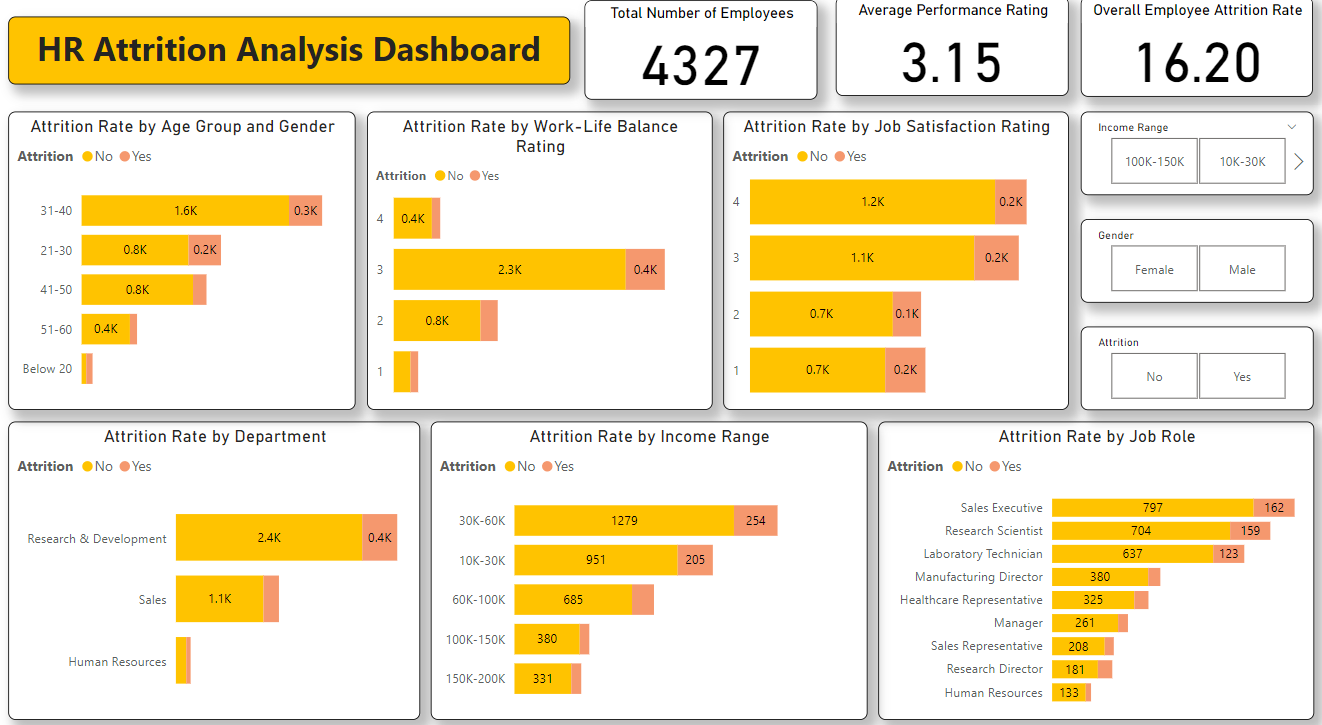

The page's visual inventory and layout, read from the dashboard file:
{"tool":"powerbi","page":{"name":"Page 1","canvas":[1280,720],"ordinal":0},"visuals":[{"type":"barChart","title":"Attrition Rate by Department","fields":{"Category":["hranalytics.Department"],"Y":["Count(hranalytics.EmployeeID)"],"Series":["hranalytics.Attrition"]},"box":[11,422.6,397.9,288.2],"z":0},{"type":"barChart","title":"Attrition Rate by Age Group and Gender","fields":{"Category":["hranalytics.Age Group"],"Y":["CountNonNull(hranalytics.Gender)"],"Series":["hranalytics.Attrition"]},"box":[11,123.5,334.8,288.2],"z":1000},{"type":"barChart","title":"Attrition Rate by Job Role","fields":{"Category":["hranalytics.JobRole"],"Series":["hranalytics.Attrition"],"Y":["Count(hranalytics.EmployeeID)"]},"box":[859,431.9,421,288.3],"z":2000},{"type":"barChart","title":"Attrition Rate by Job Satisfaction Rating","fields":{"Y":["Count(hranalytics.EmployeeID)"],"Series":["hranalytics.Attrition"],"Category":["hranalytics.JobSatisfaction"]},"box":[701.2,123.5,333.4,288.2],"z":3000},{"type":"barChart","title":"Attrition Rate by Work-Life Balance Rating","fields":{"Y":["Count(hranalytics.EmployeeID)"],"Series":["hranalytics.Attrition"],"Category":["hranalytics.WorkLifeBalance"]},"box":[356.8,123.5,333.4,288.2],"z":4000},{"type":"barChart","title":"Attrition Rate by Income Range","fields":{"Series":["hranalytics.Attrition"],"Y":["Count(hranalytics.EmployeeID)"],"Category":["hranalytics.Income Range"]},"box":[418.5,422.6,421.3,288.2],"z":5000},{"type":"slicer","fields":{"Values":["hranalytics.Gender"]},"box":[1045.6,226.4,225,81],"z":5001},{"type":"slicer","fields":{"Values":["hranalytics.Income Range"]},"box":[1045.6,123.5,225,81],"z":5002},{"type":"slicer","fields":{"Values":["hranalytics.Attrition"]},"box":[1045.6,330.7,225,81],"z":5003},{"type":"textbox","box":[11,31.6,542,65.9],"z":5004},{"type":"card","title":"Total Number of Employees","fields":{"Values":["CountNonNull(hranalytics.EmployeeID)"]},"box":[566.7,15.1,225,96.1],"z":5005},{"type":"card","title":"Average Performance Rating","fields":{"Values":["Avg(hranalytics.PerformanceRating)"]},"box":[809.6,12.3,225,96.1],"z":5006},{"type":"card","title":"Overall Employee Attrition Rate","fields":{"Values":["hranalytics.Attrition Rate"]},"box":[1046,12.1,224.4,96.5],"z":5007}]}

Visuals, with their boxes in screenshot pixels (x1, y1, x2, y2), scaled from the page's 1280x720 canvas onto the 1322x725 screenshot:
"Attrition Rate by Department" barChart: crop(11, 426, 422, 716)
"Attrition Rate by Age Group and Gender" barChart: crop(11, 124, 357, 415)
"Attrition Rate by Job Role" barChart: crop(887, 435, 1321, 724)
"Attrition Rate by Job Satisfaction Rating" barChart: crop(724, 124, 1069, 415)
"Attrition Rate by Work-Life Balance Rating" barChart: crop(369, 124, 713, 415)
"Attrition Rate by Income Range" barChart: crop(432, 426, 867, 716)
slicer - hranalytics.Gender: crop(1080, 228, 1312, 310)
slicer - hranalytics.Income Range: crop(1080, 124, 1312, 206)
slicer - hranalytics.Attrition: crop(1080, 333, 1312, 415)
textbox: crop(11, 32, 571, 98)
"Total Number of Employees" card: crop(585, 15, 818, 112)
"Average Performance Rating" card: crop(836, 12, 1069, 109)
"Overall Employee Attrition Rate" card: crop(1080, 12, 1312, 109)
